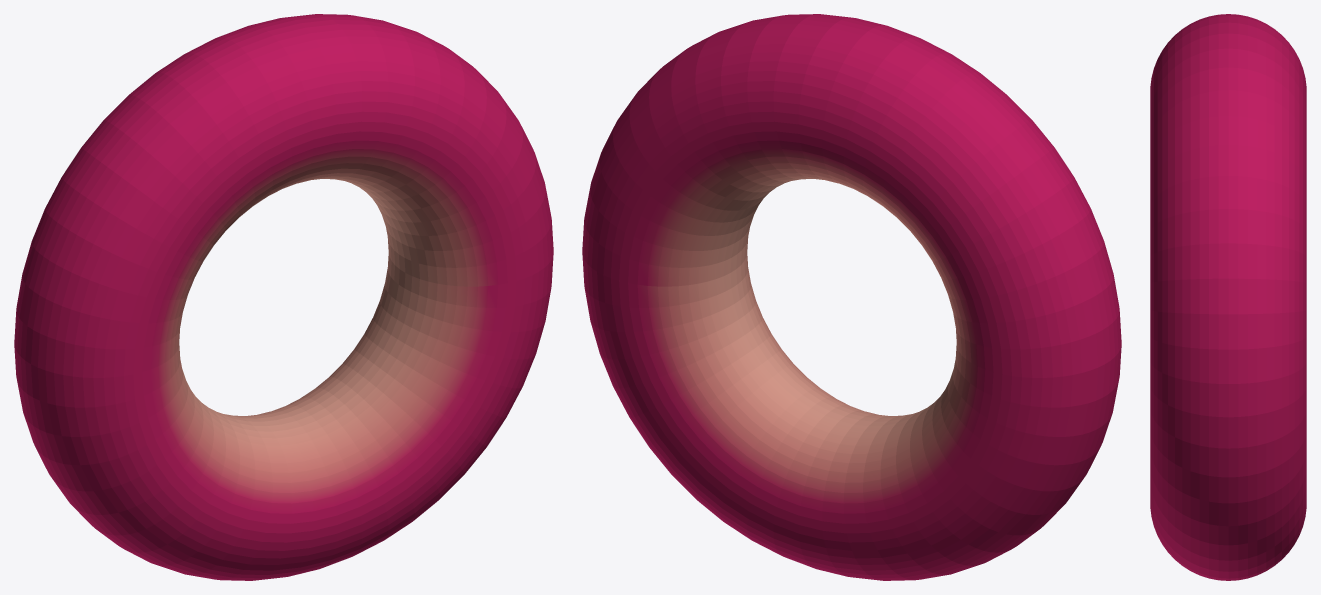
3 renders of one model, left to right at view 1: azimuth 30°, elevation 25°; view 2: azimuth 150°, elevation 25°; view 3: azimuth 270°, elevation 25°, orthographic. The views are drawn at different scales.
Visible parts, largest first — view 1: world; view 2: world; view 3: world.
Part boxes in pixels (bbox=[...]): world: bbox=[14, 14, 553, 580]; world: bbox=[582, 14, 1121, 580]; world: bbox=[1150, 14, 1306, 580].
Bounding box in the file's own units: 30.4 × 30.34 × 8.38.
